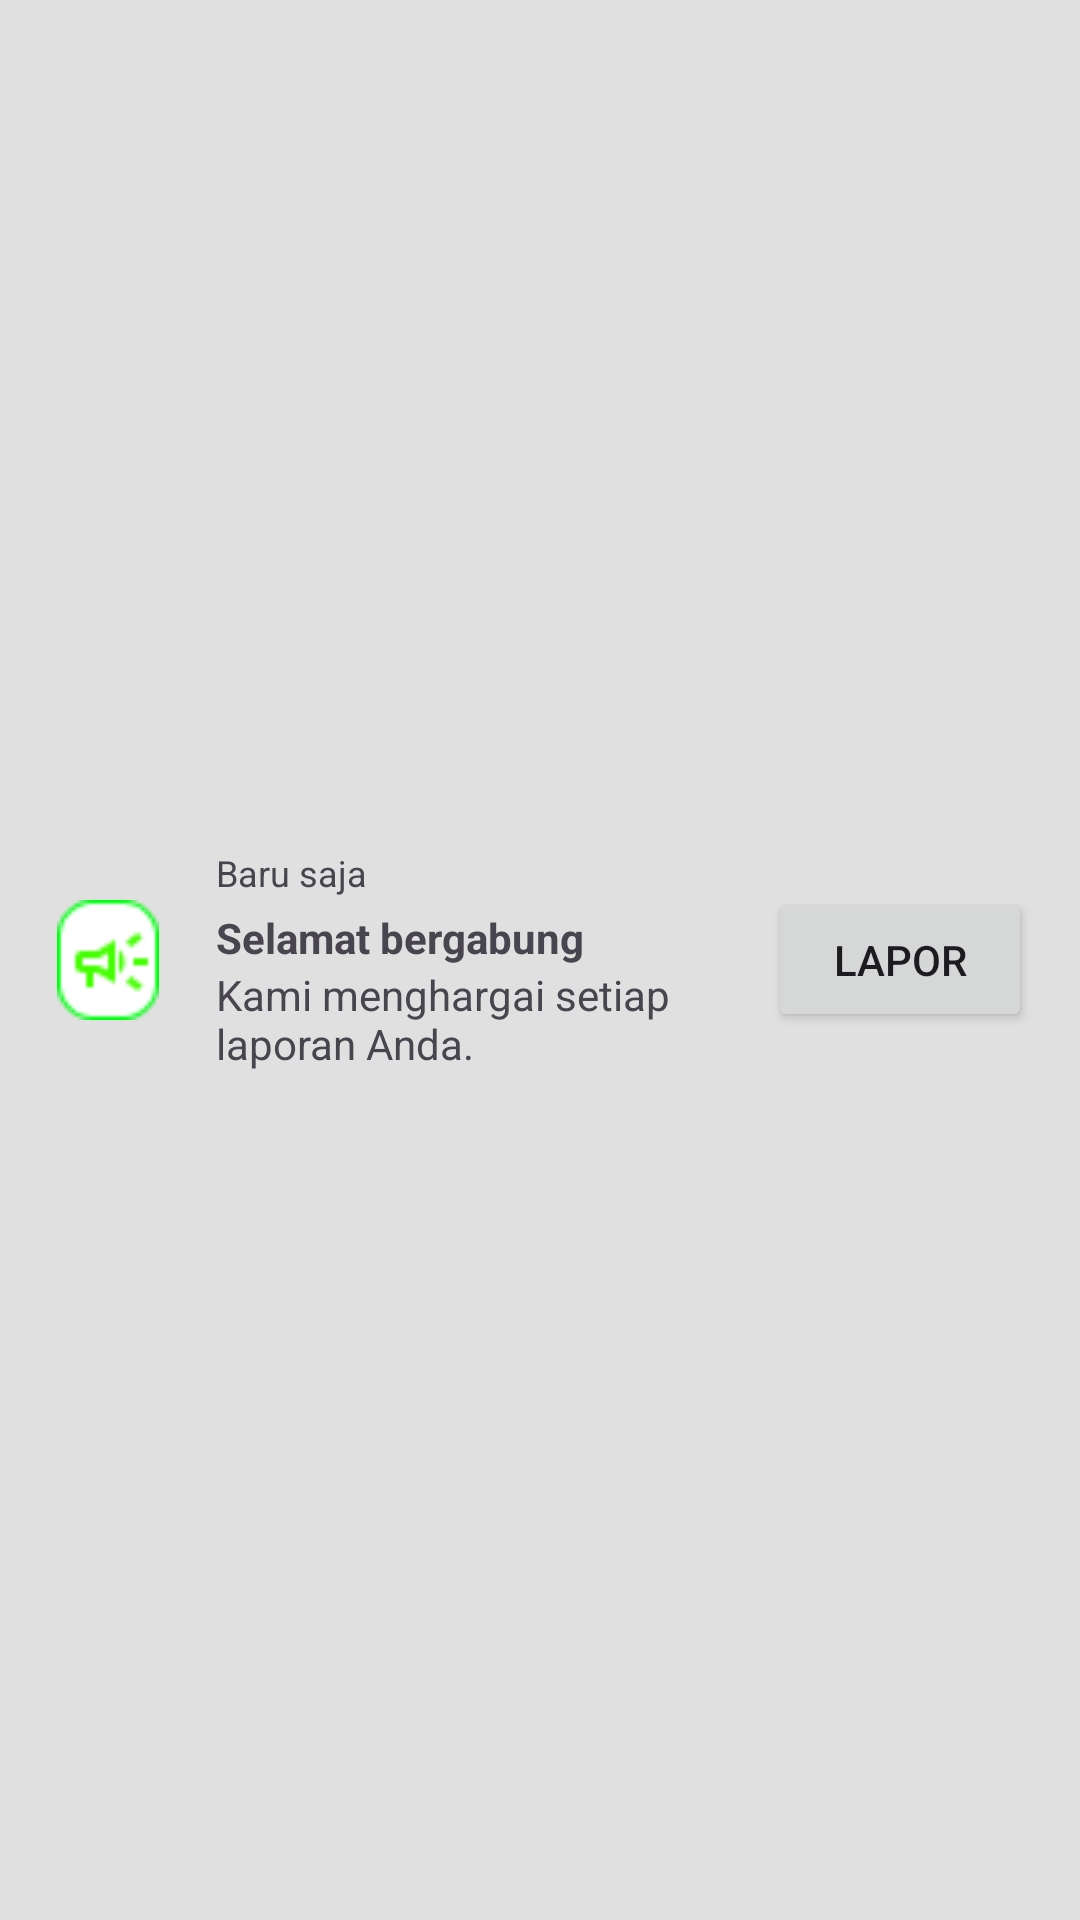

Named icons in this screenshot (1080*1920) and their bounding boxes, (x1, y1, x2, y2):
notikasi hijau: (57, 900, 159, 1020)
